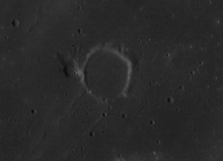crater: (71, 37, 141, 113)
